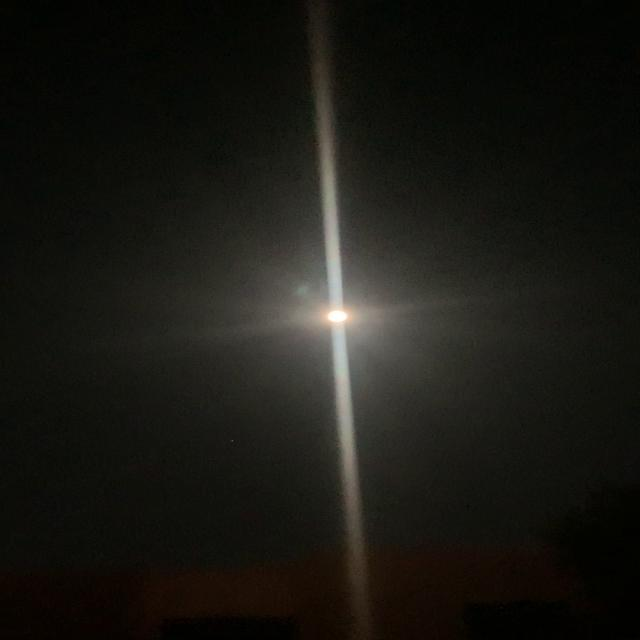moon: (310, 302, 372, 330)
